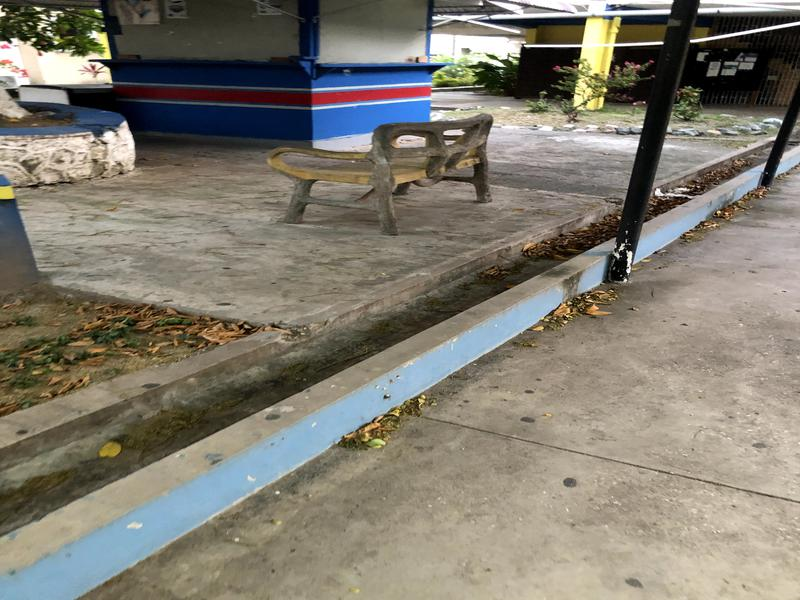18.0050864_-76.7496363_bench: (259, 100, 520, 233)
